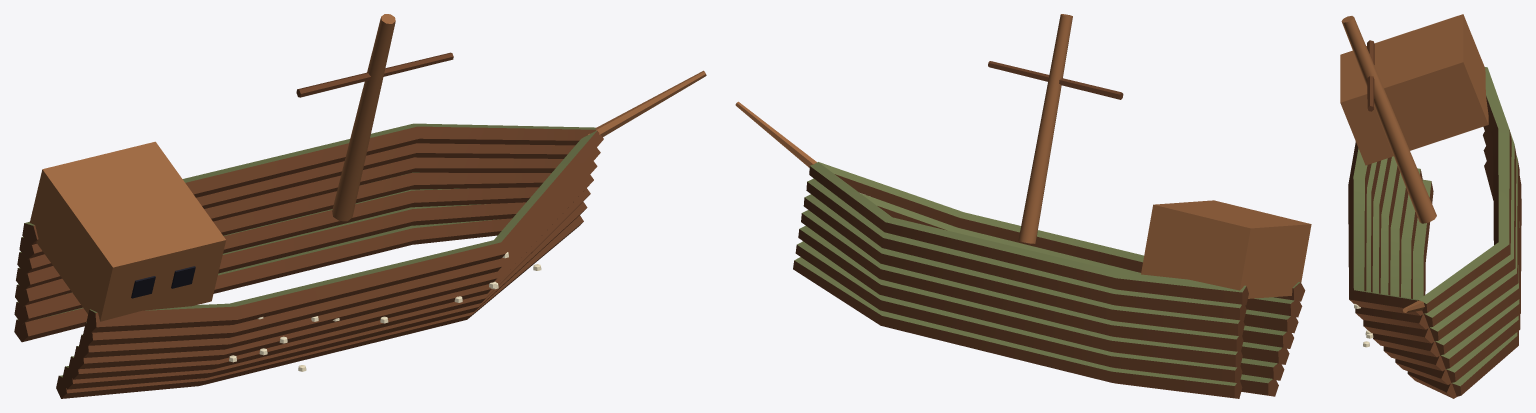
File: SunkenShip.fbx
3 renders of one model, left to right at view 1: azimuth 30°, elevation 25°; view 2: azimuth 150°, elevation 25°; view 3: azimuth 270°, elevation 25°, orthographic. The views are drawn at different scales.
Visible parts, largest first — view 1: SunkenShip; view 2: SunkenShip; view 3: SunkenShip.
Boxes of the visible parts, <box> form: SunkenShip: <box>14,14,706,398</box>; SunkenShip: <box>735,14,1311,398</box>; SunkenShip: <box>1340,14,1521,398</box>.
Bounding box in the file's own units: 19.09 × 10.36 × 5.41.
1 material, 1 textured.
